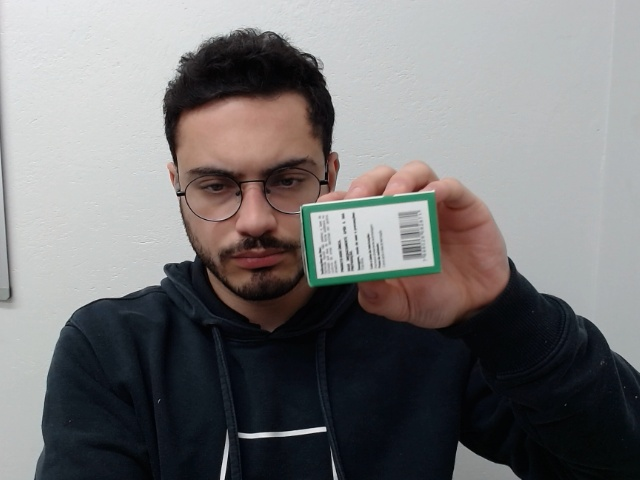divisor: (295, 188, 444, 290)
